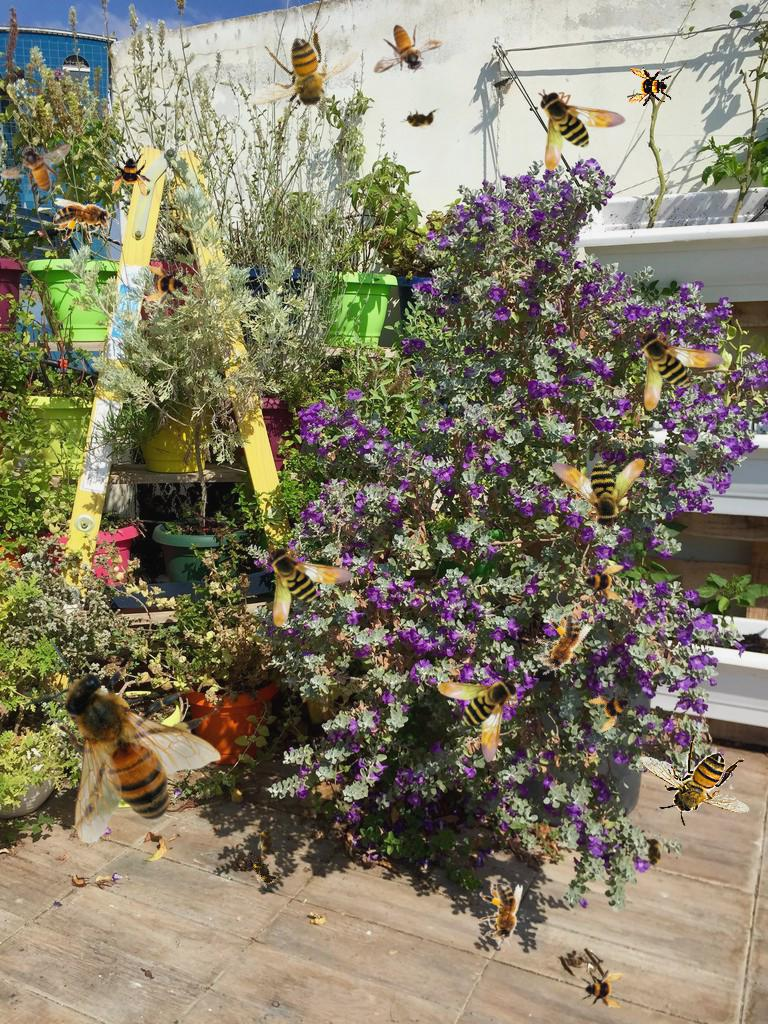Bee: (22, 640, 221, 844), (228, 2, 373, 148), (536, 420, 654, 536), (639, 733, 750, 827), (438, 675, 520, 763), (637, 329, 725, 411), (266, 545, 354, 627), (538, 89, 626, 171), (525, 606, 593, 685), (584, 680, 644, 740), (0, 143, 71, 193), (373, 24, 444, 74), (53, 198, 119, 243), (478, 883, 523, 949), (628, 66, 672, 110), (580, 966, 624, 1010), (145, 264, 189, 308), (580, 558, 624, 602), (110, 153, 154, 197), (244, 848, 284, 894), (642, 832, 664, 872), (257, 822, 279, 862), (400, 108, 440, 130)
